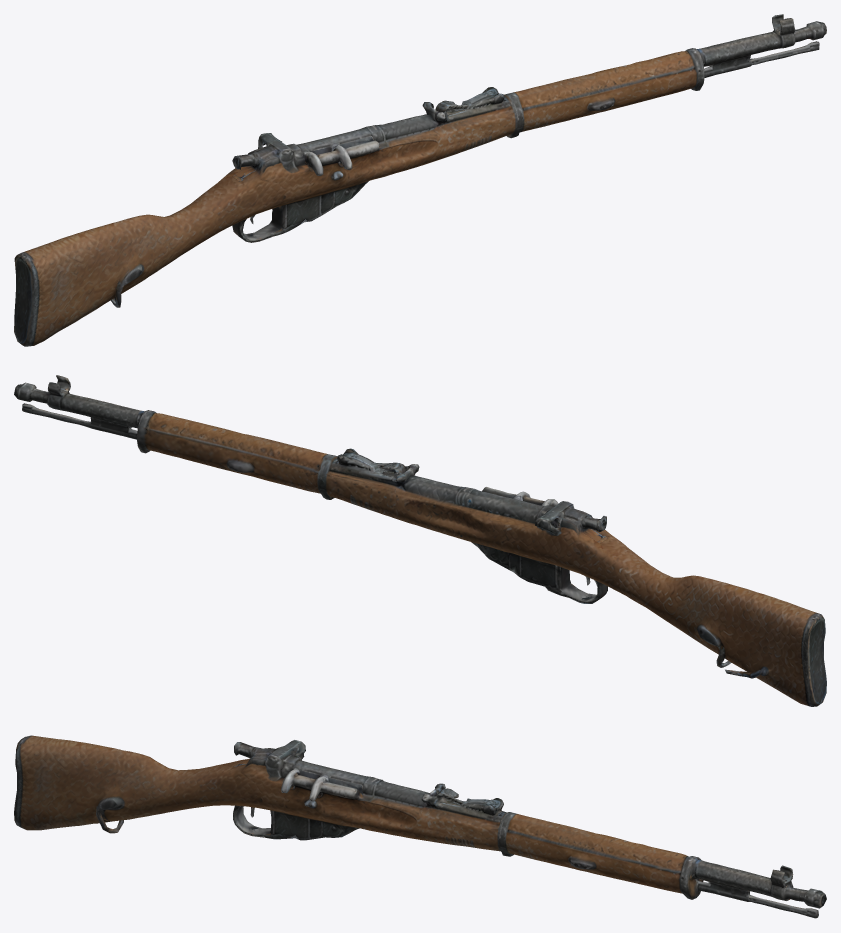
The model's file is SM_WP_Mosin_Varco.fbx.
3 views of the same model, one above another, from view 1: azimuth 30°, elevation 25°; view 2: azimuth 150°, elevation 25°; view 3: azimuth 330°, elevation 25° (orthographic).
Parts seen in each view (by area): view 1: texture_mapping; view 2: texture_mapping; view 3: texture_mapping.
Part boxes in pixels (x1,y1,x2,y2): texture_mapping: (14,14,826,346); texture_mapping: (14,375,826,706); texture_mapping: (14,735,826,918).
Bounding box in the file's own units: 1 × 0.0811 × 0.1713.
1 material, 1 textured.
